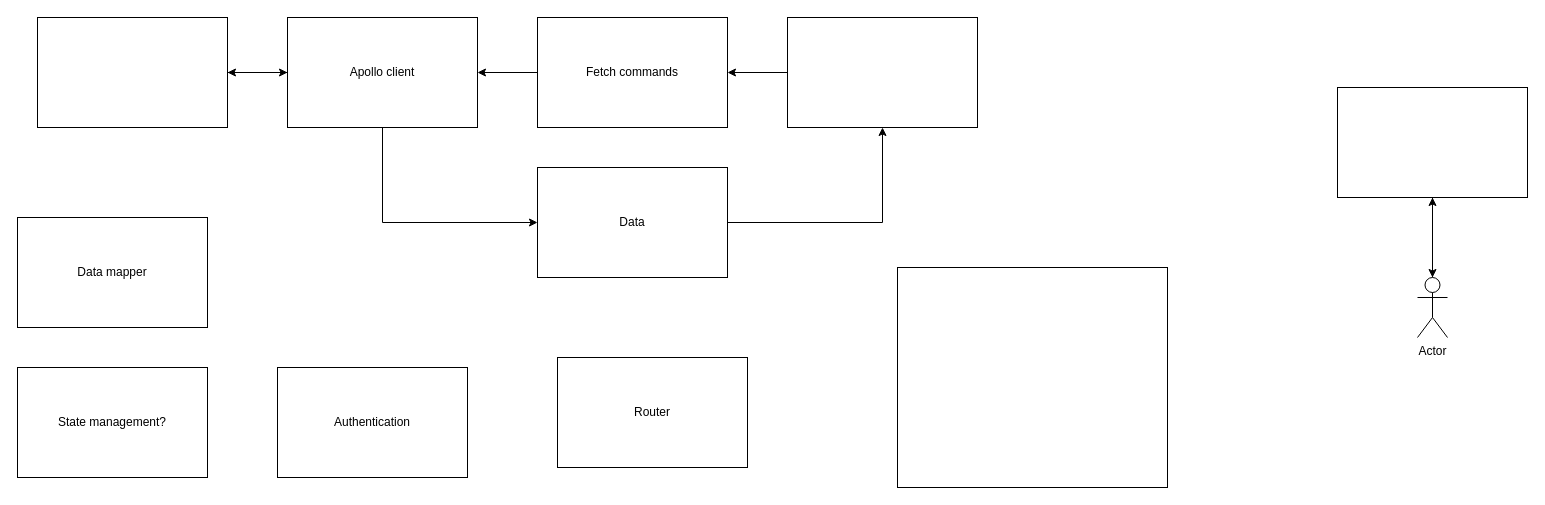
This 1545x505 diagram has some shape labels left out. Here are the shapes that lost their labels. From the top down, the centre of each, then its label:
At [132,72]: "Github api".
At [882,72]: "UI".
At [1432,142]: "Components".
At [1032,377]: "Observables/stores state management".
